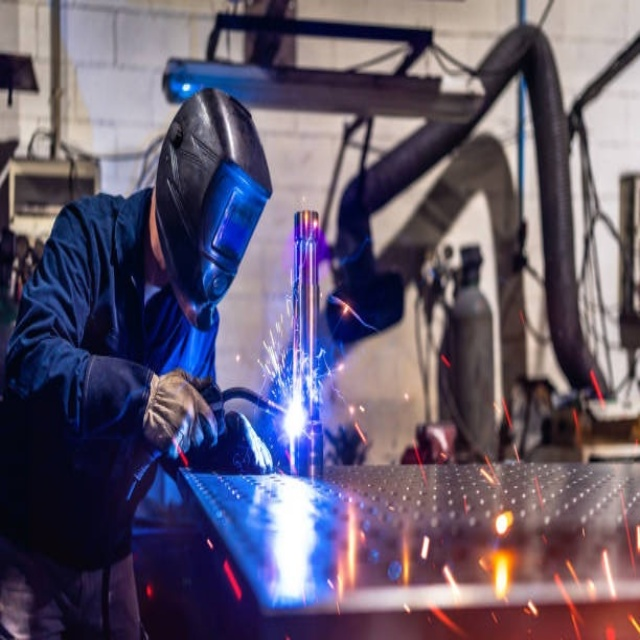Guantes: (138, 364, 226, 475)
